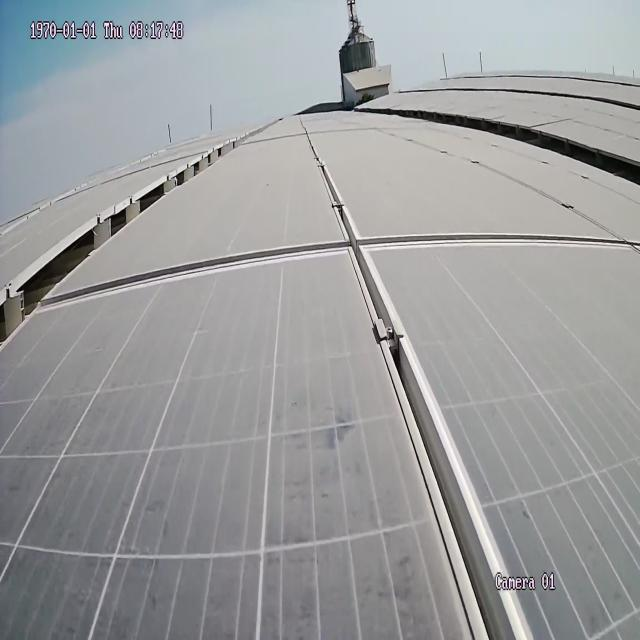interior panel: (314, 159, 528, 630), (61, 237, 342, 313), (366, 227, 633, 260)
outher panel: (0, 139, 238, 353), (382, 104, 637, 195)
